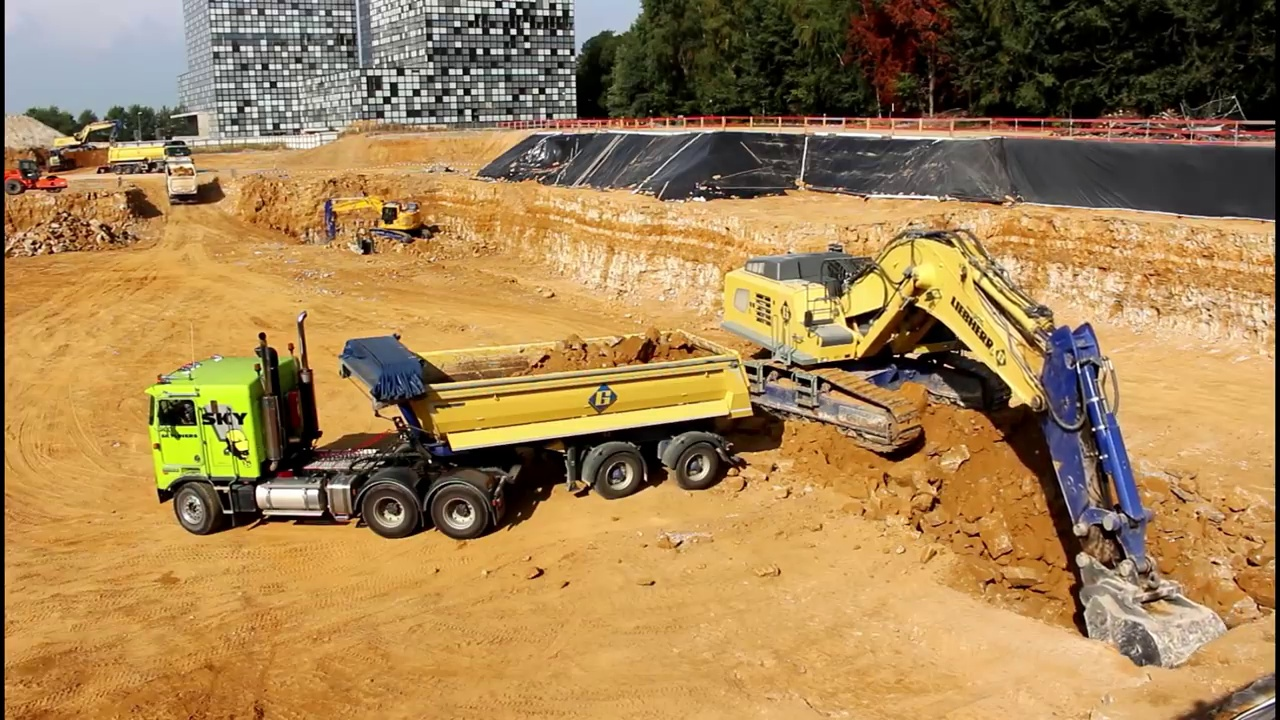compactor: (45, 116, 121, 162), (4, 158, 70, 199)
excavator: (712, 216, 1233, 674), (315, 195, 436, 257)
truck: (142, 305, 760, 544), (105, 136, 198, 175), (161, 151, 204, 205)
